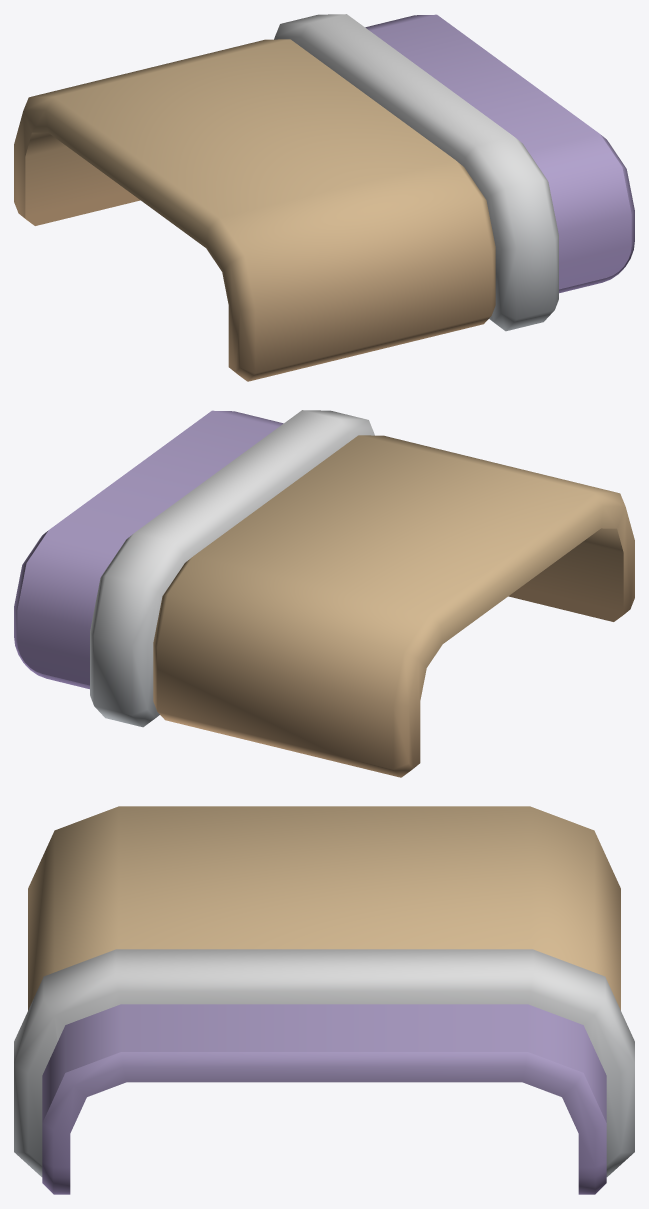
Rendered from cover-duvet-fold-single.glb.
The picture shows the model from 3 angles, top to bottom: view 1: azimuth 30°, elevation 25°; view 2: azimuth 150°, elevation 25°; view 3: azimuth 270°, elevation 25°; orthographic projection. The views are drawn at different scales.
Visible parts, largest first — view 1: cover-duvet-fold-single; view 2: cover-duvet-fold-single; view 3: cover-duvet-fold-single.
Boxes of the visible parts, x1,y1,x2,y2 form: cover-duvet-fold-single: (14,14,634,381); cover-duvet-fold-single: (14,410,634,777); cover-duvet-fold-single: (14,806,634,1194).
Size of the model in its own units: 1.02 by 0.4 by 1.1.
